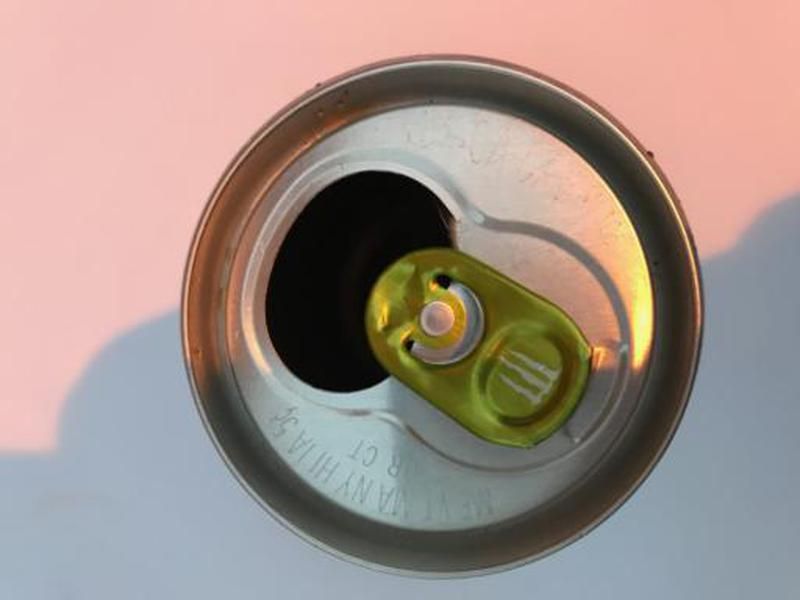can: (168, 47, 713, 585)
